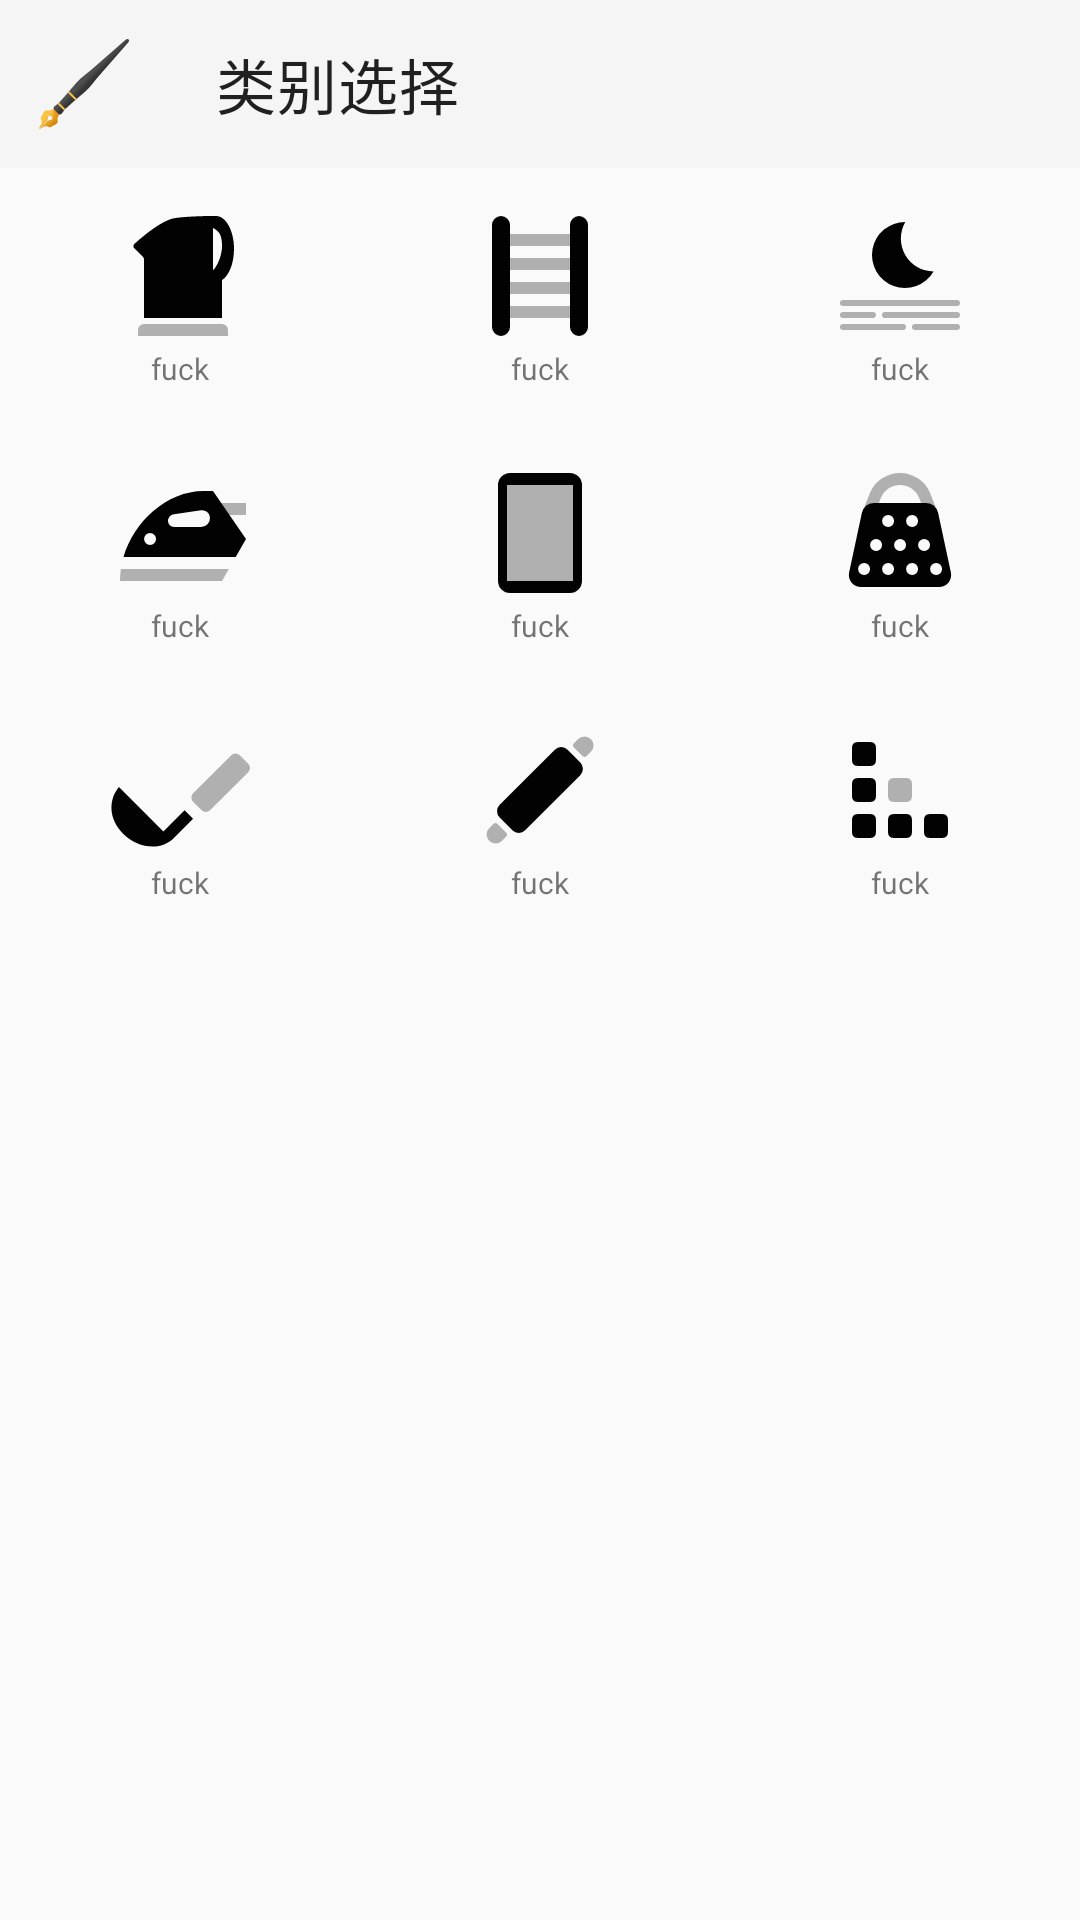

Icons on this 1080 × 1920 Android screen, each with the point to tap as (x,y):
grater: (900,530)
iron: (183,536)
kettle: (183,276)
ladder: (540,276)
ladle: (180,800)
night fog: (900,276)
pixels: (900,790)
rolling pin: (540,790)
tablet: (540,533)
